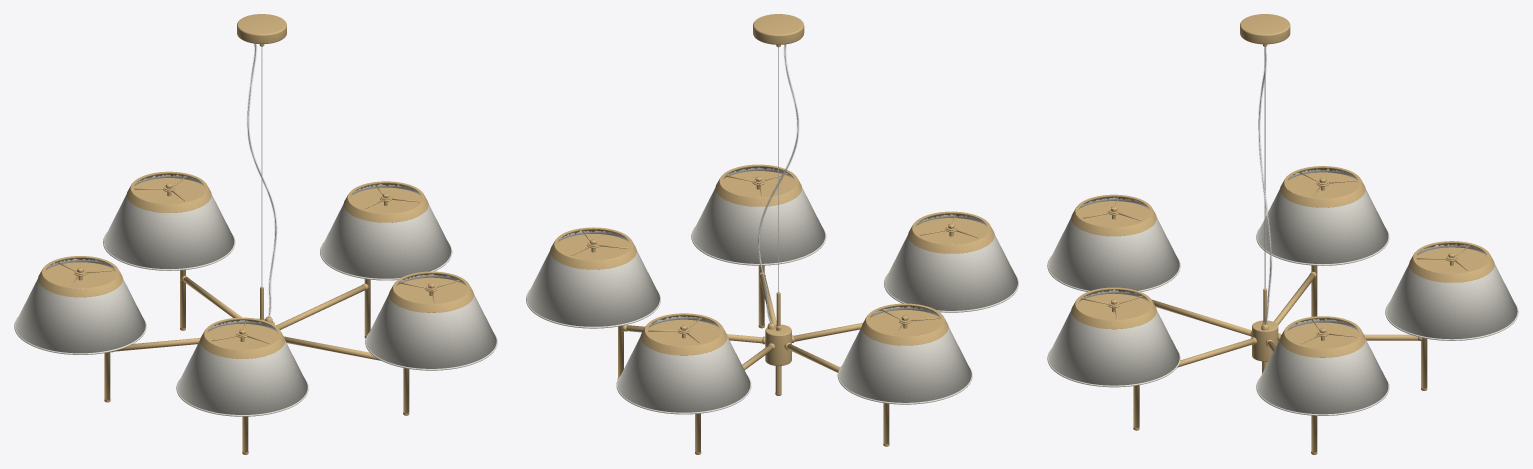
3 renders of one model, left to right at view 1: azimuth 30°, elevation 25°; view 2: azimuth 150°, elevation 25°; view 3: azimuth 270°, elevation 25°, orthographic.
Visible parts, largest first — view 1: fabric, metal, liner, cable, cord; view 2: fabric, metal, liner, cable, cord; view 3: fabric, metal, liner, cable, cord.
Boxes of the visible parts, <box> form: fabric: <box>14,193,497,416</box>; metal: <box>38,14,473,454</box>; liner: <box>46,174,465,331</box>; cable: <box>247,43,276,317</box>; cord: <box>247,44,276,317</box>; fabric: <box>526,187,1018,414</box>; metal: <box>550,14,994,454</box>; liner: <box>558,167,986,327</box>; cable: <box>758,44,798,323</box>; cord: <box>758,45,798,323</box>; fabric: <box>1047,189,1518,415</box>; metal: <box>1071,14,1494,454</box>; liner: <box>1079,168,1486,329</box>; cable: <box>1258,46,1271,324</box>; cord: <box>1258,47,1271,324</box>.
Bounding box in the file's own units: 0.9678 × 0.8 × 0.9333.
Materials: 6 (5 with a texture image).
